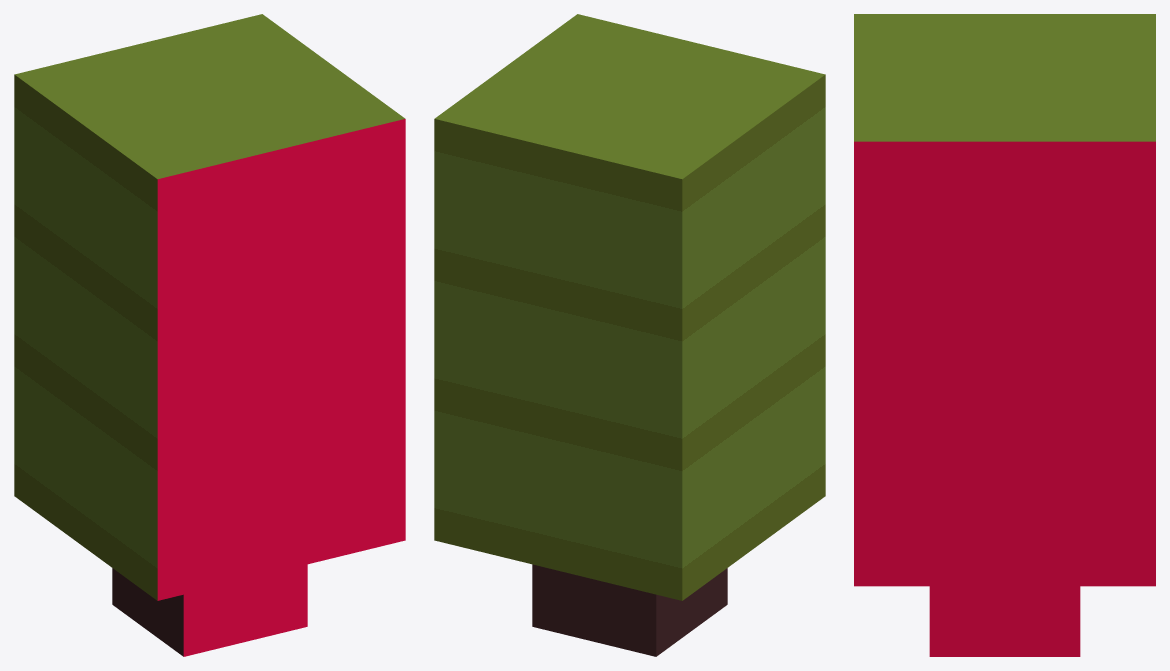
Rendered from tree_1.gltf.
The picture shows the model from 3 angles, left to right: view 1: azimuth 30°, elevation 25°; view 2: azimuth 150°, elevation 25°; view 3: azimuth 270°, elevation 25°; orthographic projection. The views are drawn at different scales.
Parts seen in each view (by area): view 1: mesh (×2); view 2: mesh (×2); view 3: mesh (×2).
Boxes of the visible parts, bbox=[...] form: mesh (×2): bbox=[14, 14, 405, 656]; mesh (×2): bbox=[434, 14, 825, 656]; mesh (×2): bbox=[854, 14, 1155, 656].
Size of the model in its own units: 1 by 2 by 1.
Materials: 1 (1 with a texture image).
